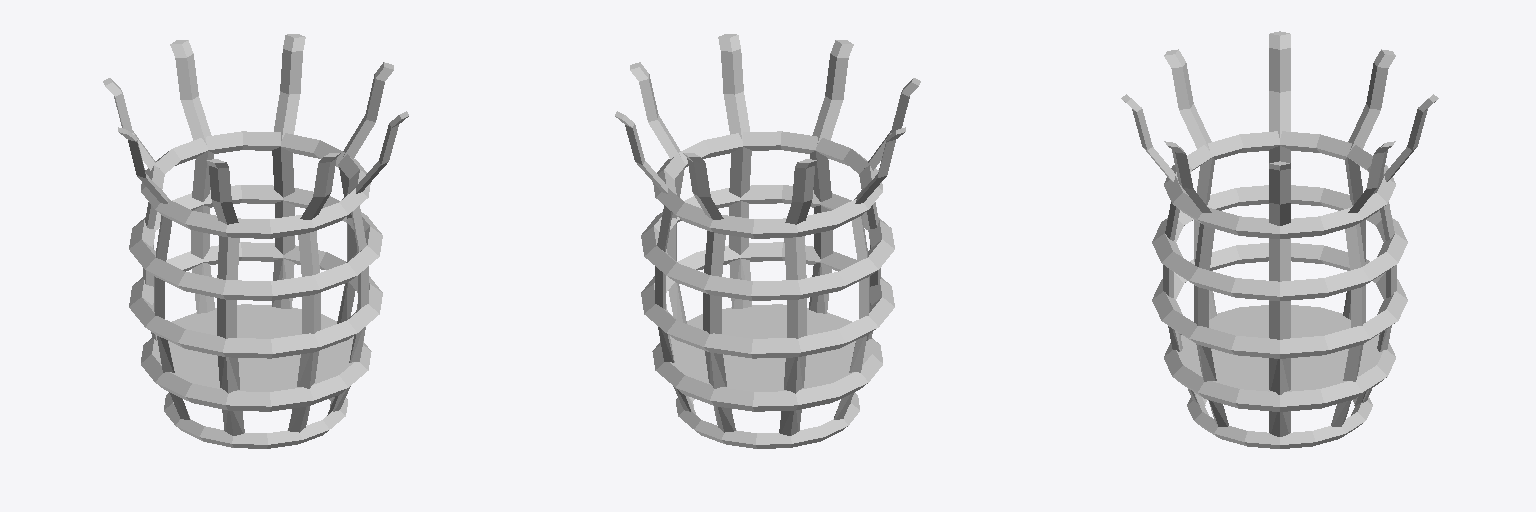
Rendered from FireKorb.obj.
3 views of the same model, side by side, from view 1: azimuth 30°, elevation 25°; view 2: azimuth 150°, elevation 25°; view 3: azimuth 270°, elevation 25° (orthographic).
Parts seen in each view (by area): view 1: Circle; view 2: Circle; view 3: Circle.
Boxes of the visible parts, <box> form: Circle: <box>103,34,408,448</box>; Circle: <box>615,34,920,448</box>; Circle: <box>1121,31,1438,448</box>.
Bounding box in the file's own units: 3 × 3.28 × 3.